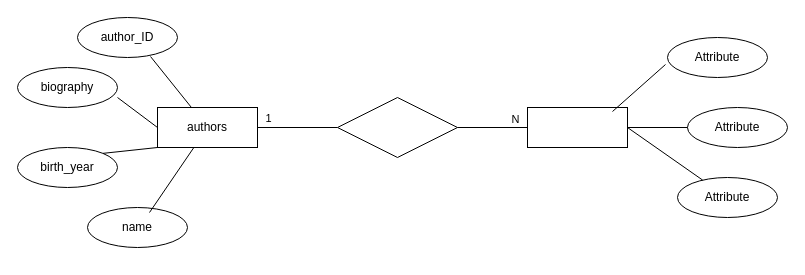
This 805x275 diagram has some shape labels left out. The box of each missing label's shape, as (x1, y1, x2, y2) in pixels:
books: (526, 106, 628, 148)
writes: (336, 96, 458, 158)
